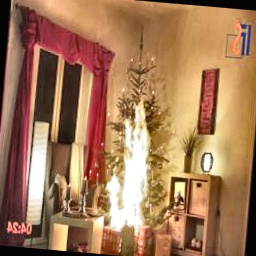fire: (87, 90, 171, 233)
